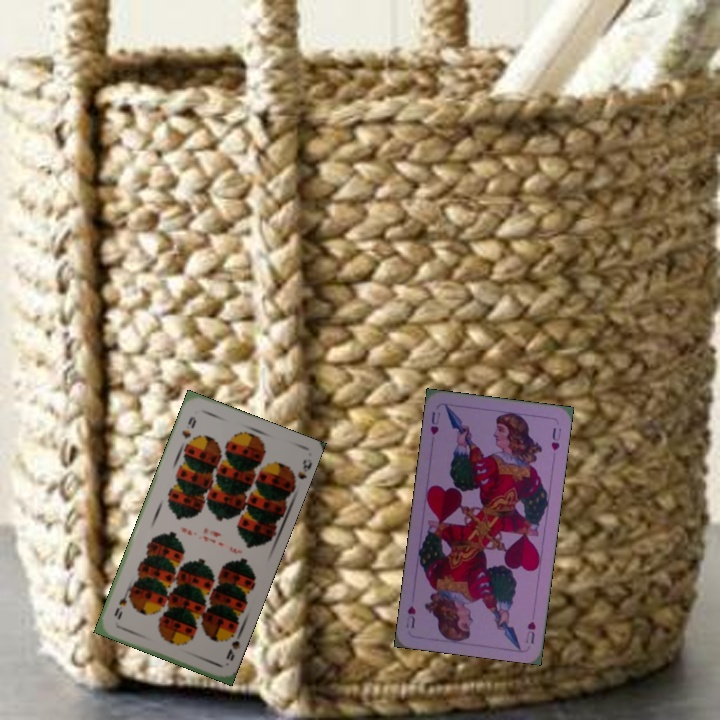HU: (426, 407, 443, 438), (521, 617, 538, 646)
S9: (222, 627, 244, 663), (178, 412, 199, 441)
